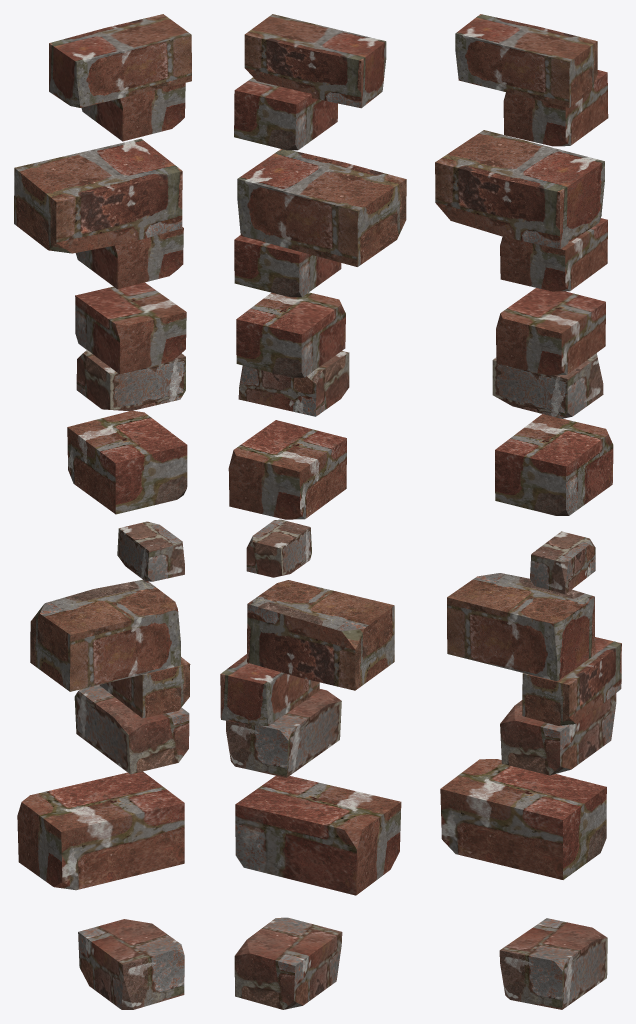
File: SM_Wall_Corner_05.fbx
3 views of the same model, side by side, from view 1: azimuth 30°, elevation 25°; view 2: azimuth 150°, elevation 25°; view 3: azimuth 330°, elevation 25° (orthographic).
Parts seen in each view (by area): view 1: SM_Wall_Corner_05_LOD0; view 2: SM_Wall_Corner_05_LOD0; view 3: SM_Wall_Corner_05_LOD0.
Part boxes in pixels (x1,y1,x2,y2): SM_Wall_Corner_05_LOD0: (14,14,191,1009); SM_Wall_Corner_05_LOD0: (220,14,406,1009); SM_Wall_Corner_05_LOD0: (435,14,621,1009).
Size of what is drawn, in the model's own units: 88.8 by 603 by 66.37.
